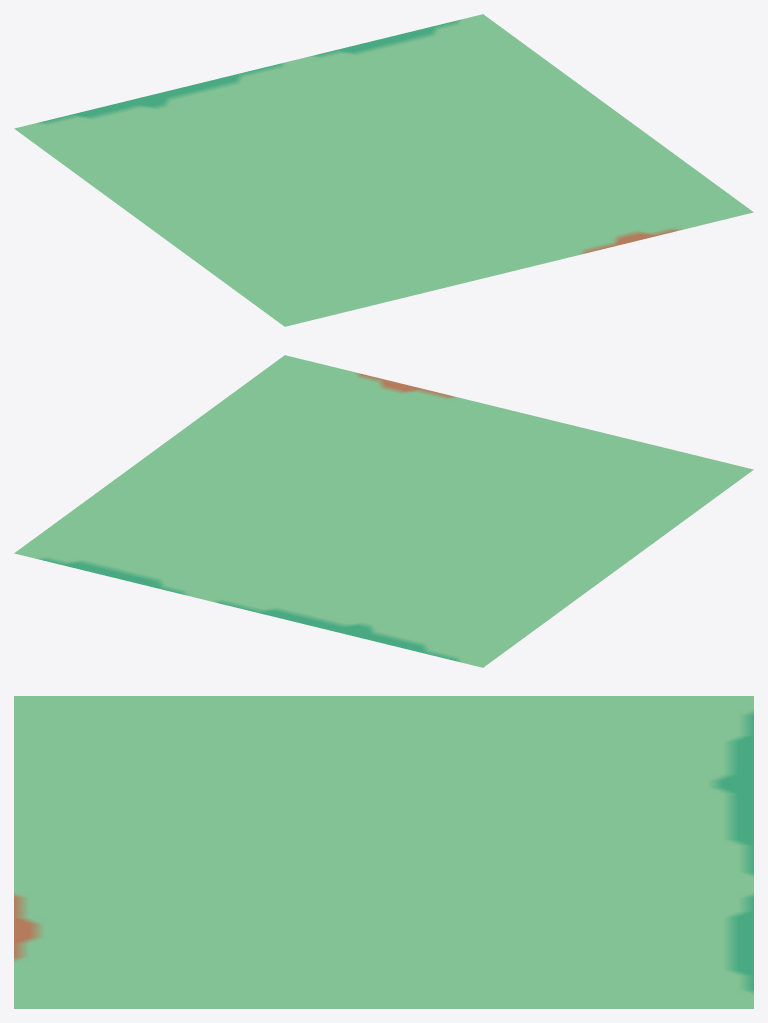
File: Terrain Mesh Optimized.glb
The picture shows the model from 3 angles, top to bottom: view 1: azimuth 30°, elevation 25°; view 2: azimuth 150°, elevation 25°; view 3: azimuth 270°, elevation 25°; orthographic projection. The views are drawn at different scales.
Parts seen in each view (by area): view 1: square_rock2; view 2: square_rock2; view 3: square_rock2.
Part boxes in pixels (bbox=[...]): square_rock2: bbox=[14, 14, 753, 326]; square_rock2: bbox=[14, 355, 753, 667]; square_rock2: bbox=[14, 696, 753, 1008].
Size of the model in its own units: 96 by 3.58e-07 by 96.
Materials: 5 (2 with a texture image).
